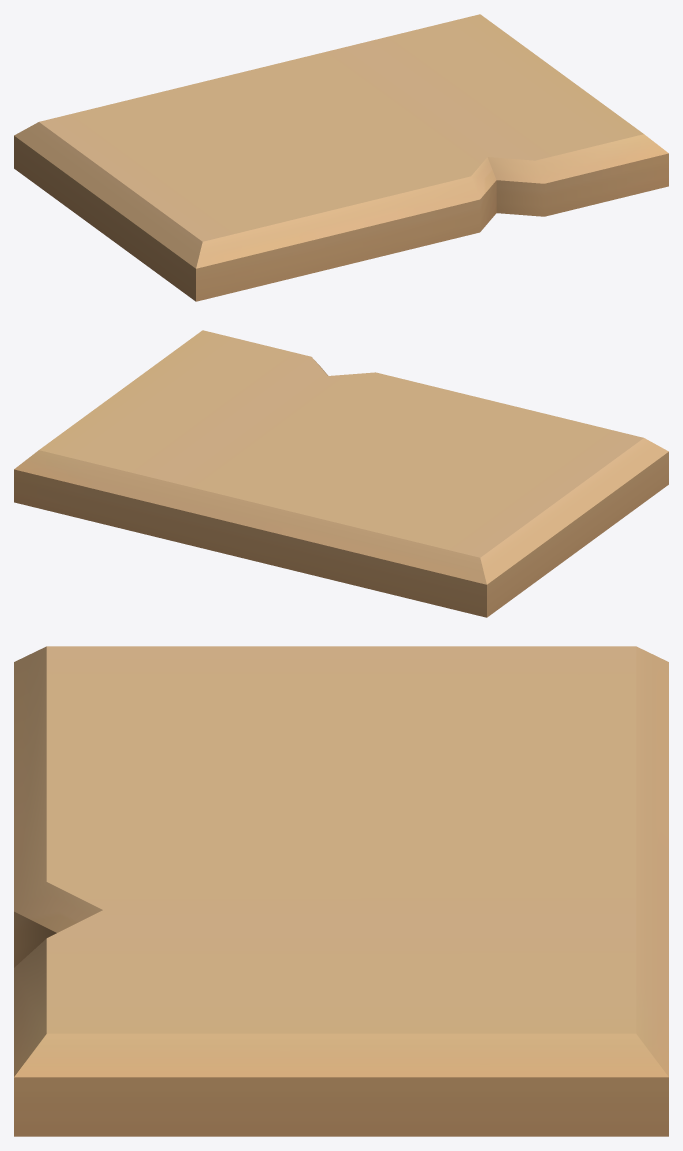
Rendered from kay-tabua-corte.gltf.
3 views of the same model, one above another, from view 1: azimuth 30°, elevation 25°; view 2: azimuth 150°, elevation 25°; view 3: azimuth 270°, elevation 25° (orthographic). The views are drawn at different scales.
Visible parts, largest first — view 1: cuttingboard; view 2: cuttingboard; view 3: cuttingboard.
Part boxes in pixels (x1,y1,x2,y2): cuttingboard: (14, 14, 668, 301); cuttingboard: (14, 330, 668, 617); cuttingboard: (14, 646, 668, 1136).
Bounding box in the file's own units: 0.975 × 0.0975 × 0.65.
Materials: 1 (1 with a texture image).
